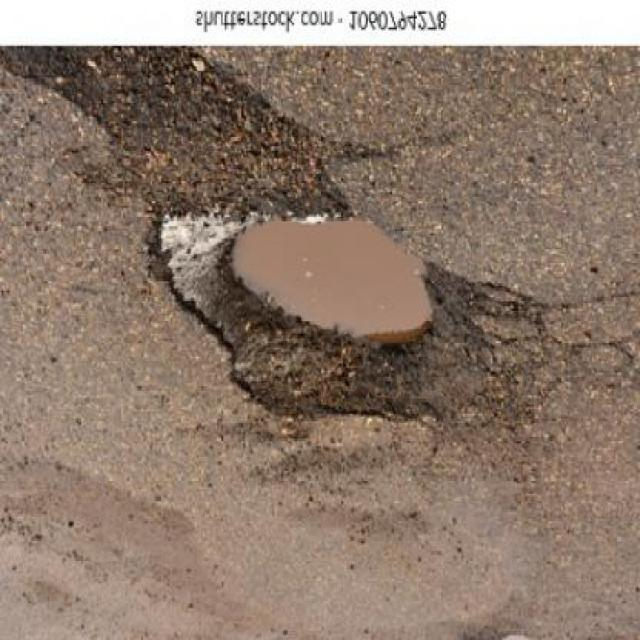Pothole: (0, 45, 542, 483)
